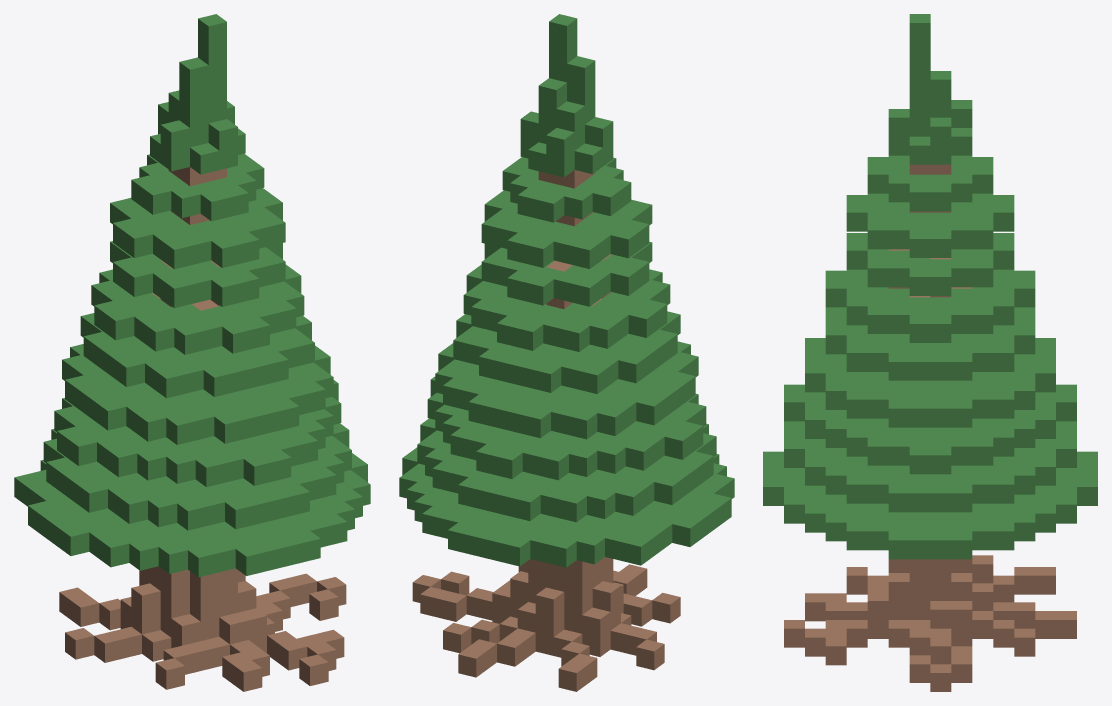
Rendered from tree_a_v1.fbx.
3 renders of one model, left to right at view 1: azimuth 30°, elevation 25°; view 2: azimuth 150°, elevation 25°; view 3: azimuth 270°, elevation 25°, orthographic. The views are drawn at different scales.
Visible parts, largest first — view 1: tree_a; view 2: tree_a; view 3: tree_a.
Part boxes in pixels (left/top/right/bottom): tree_a: left=14, top=14, right=370, bottom=691; tree_a: left=399, top=14, right=734, bottom=691; tree_a: left=763, top=14, right=1097, bottom=691.
Bounding box in the file's own units: 16 × 32 × 16.
